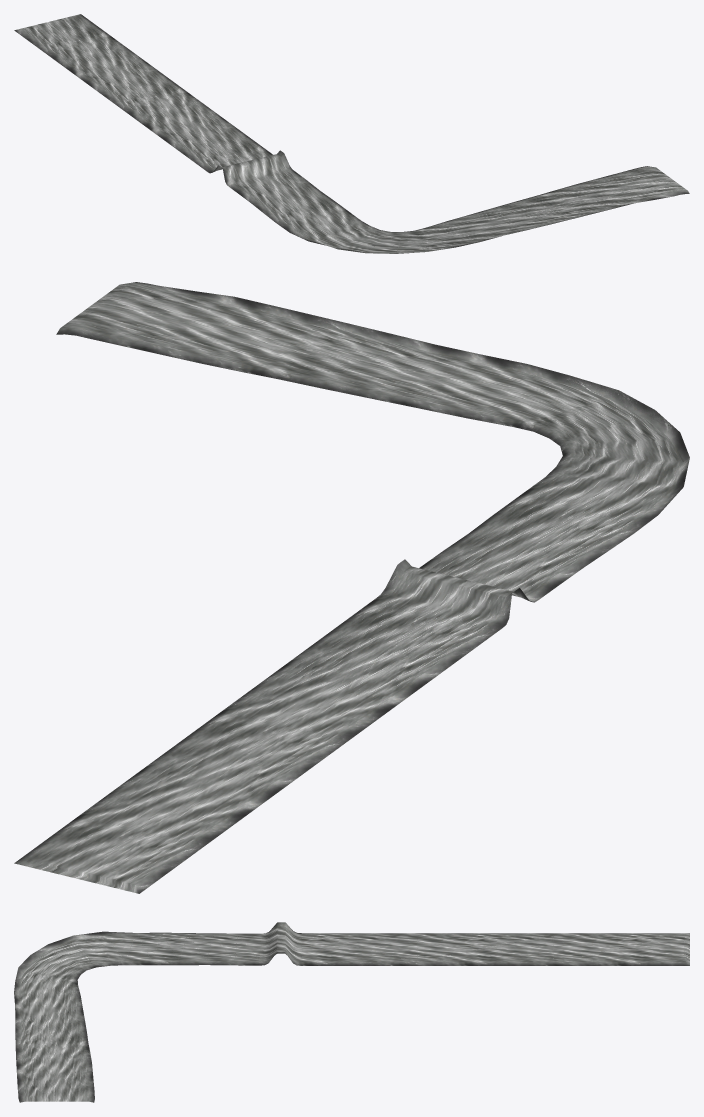
Rendered from water_fx_01_04_maintenance_tunnels.dae.
3 renders of one model, top to bottom at view 1: azimuth 30°, elevation 25°; view 2: azimuth 150°, elevation 25°; view 3: azimuth 270°, elevation 25°, orthographic. The views are drawn at different scales.
Parts seen in each view (by area): view 1: 01_04_maintenance_tunnels; view 2: 01_04_maintenance_tunnels; view 3: 01_04_maintenance_tunnels.
Boxes of the visible parts, x1,y1,x2,y2 form: 01_04_maintenance_tunnels: [14, 14, 689, 253]; 01_04_maintenance_tunnels: [14, 282, 689, 893]; 01_04_maintenance_tunnels: [14, 922, 689, 1102].
Bounding box in the file's own units: 5.83 × 0.239 × 9.93.
